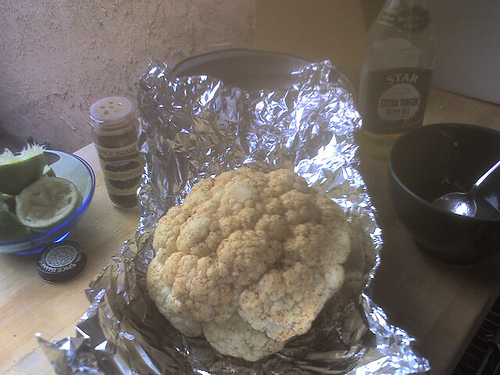cauliflower: (145, 165, 352, 364)
